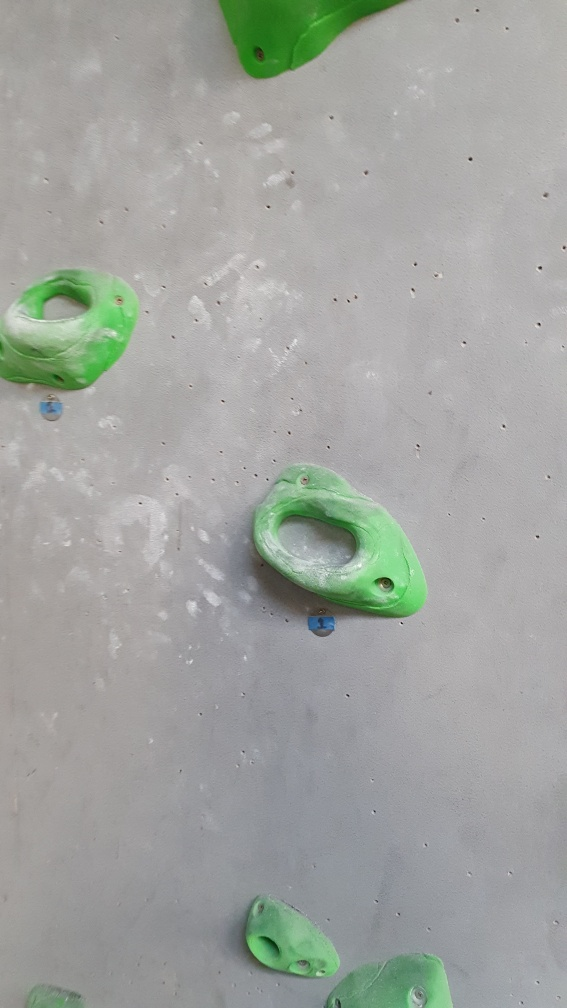Hand Start: (303, 605, 336, 642), (35, 390, 65, 425)
Pocket: (250, 461, 436, 620), (1, 266, 140, 393)
